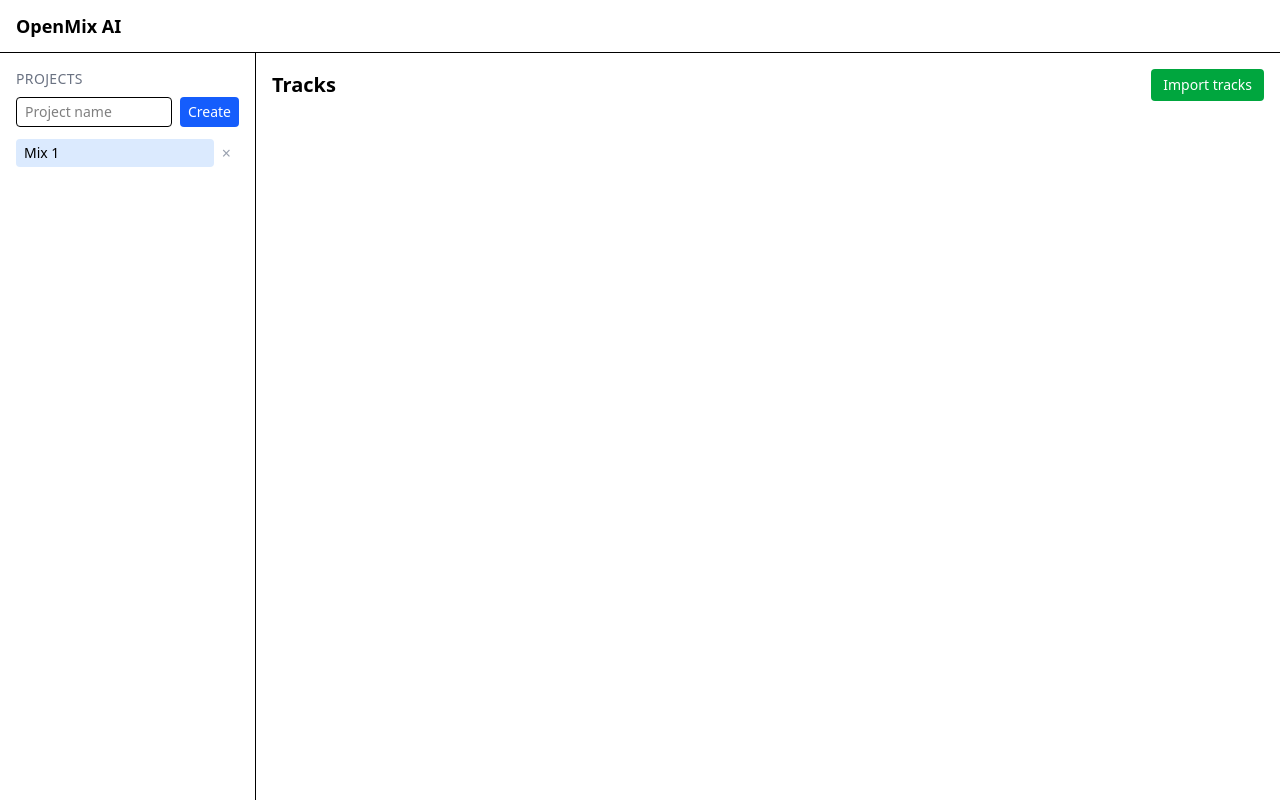
it: Home › imports tracks via file dialog
This screenshot has width=1280, height=800.
Click the button "Import tracks". click: (1208, 85)
box: [1151, 69, 1264, 101]
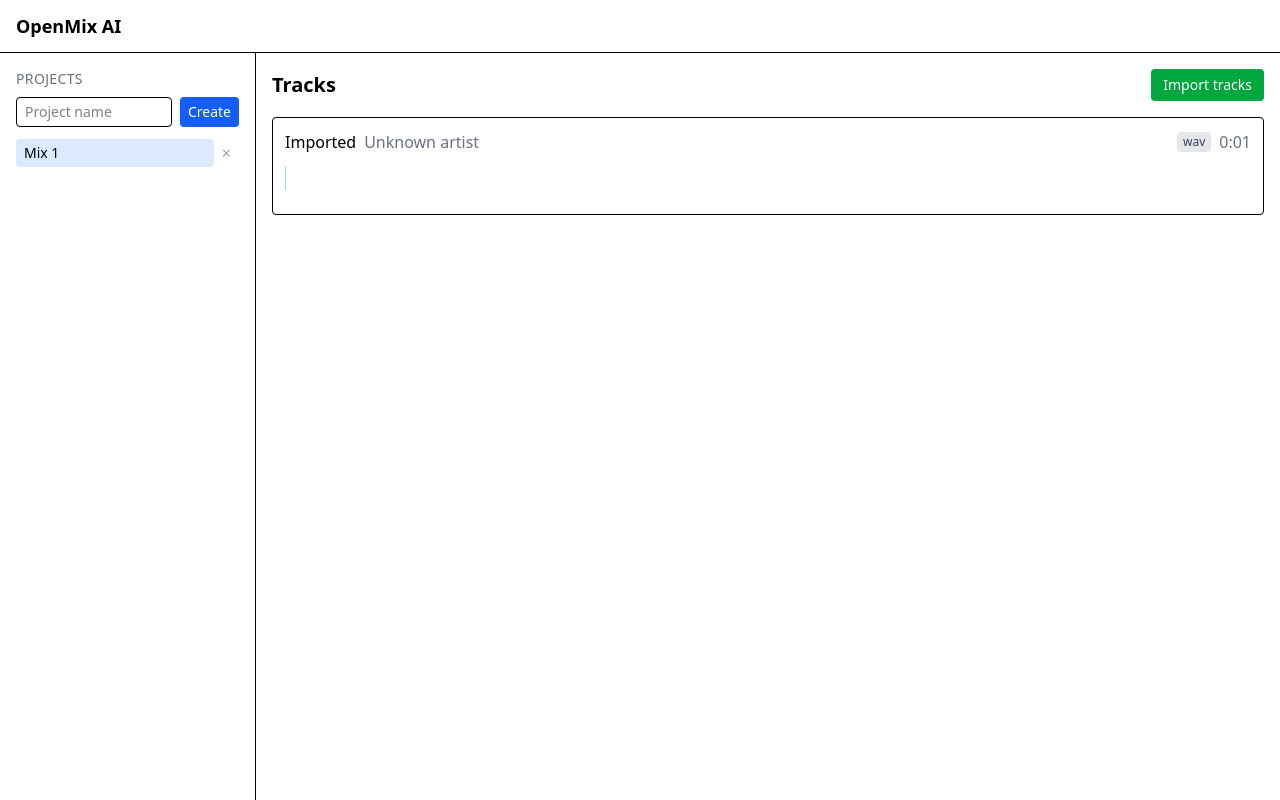
Result: the text "Imported" is shown at [285, 131, 356, 153]
